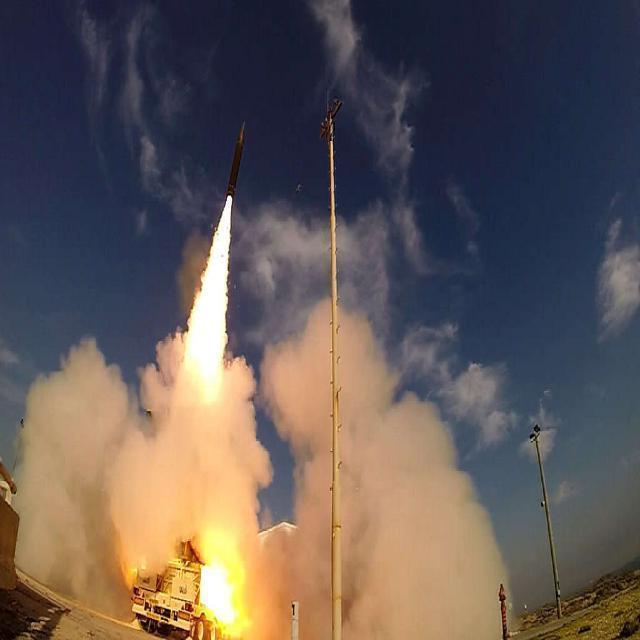missile: (219, 118, 248, 196)
